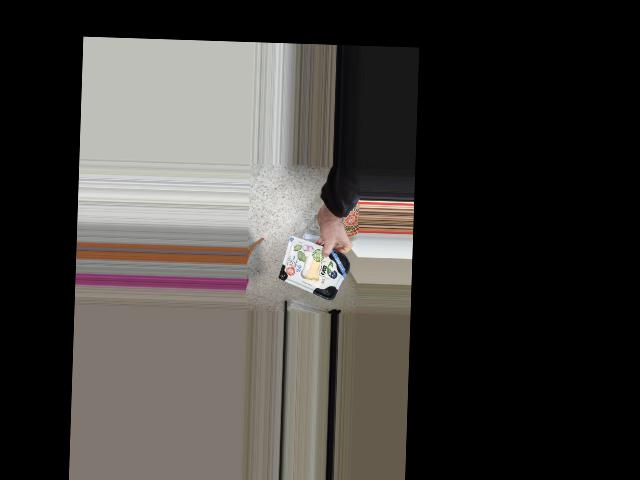cheese: (279, 241, 348, 291)
